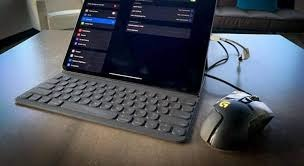keyboard: (14, 71, 196, 146)
mouse: (197, 88, 278, 155)
